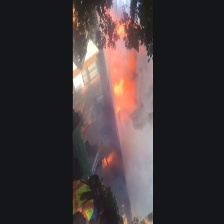fire: (103, 61, 134, 109)
smoke: (126, 52, 151, 203)
